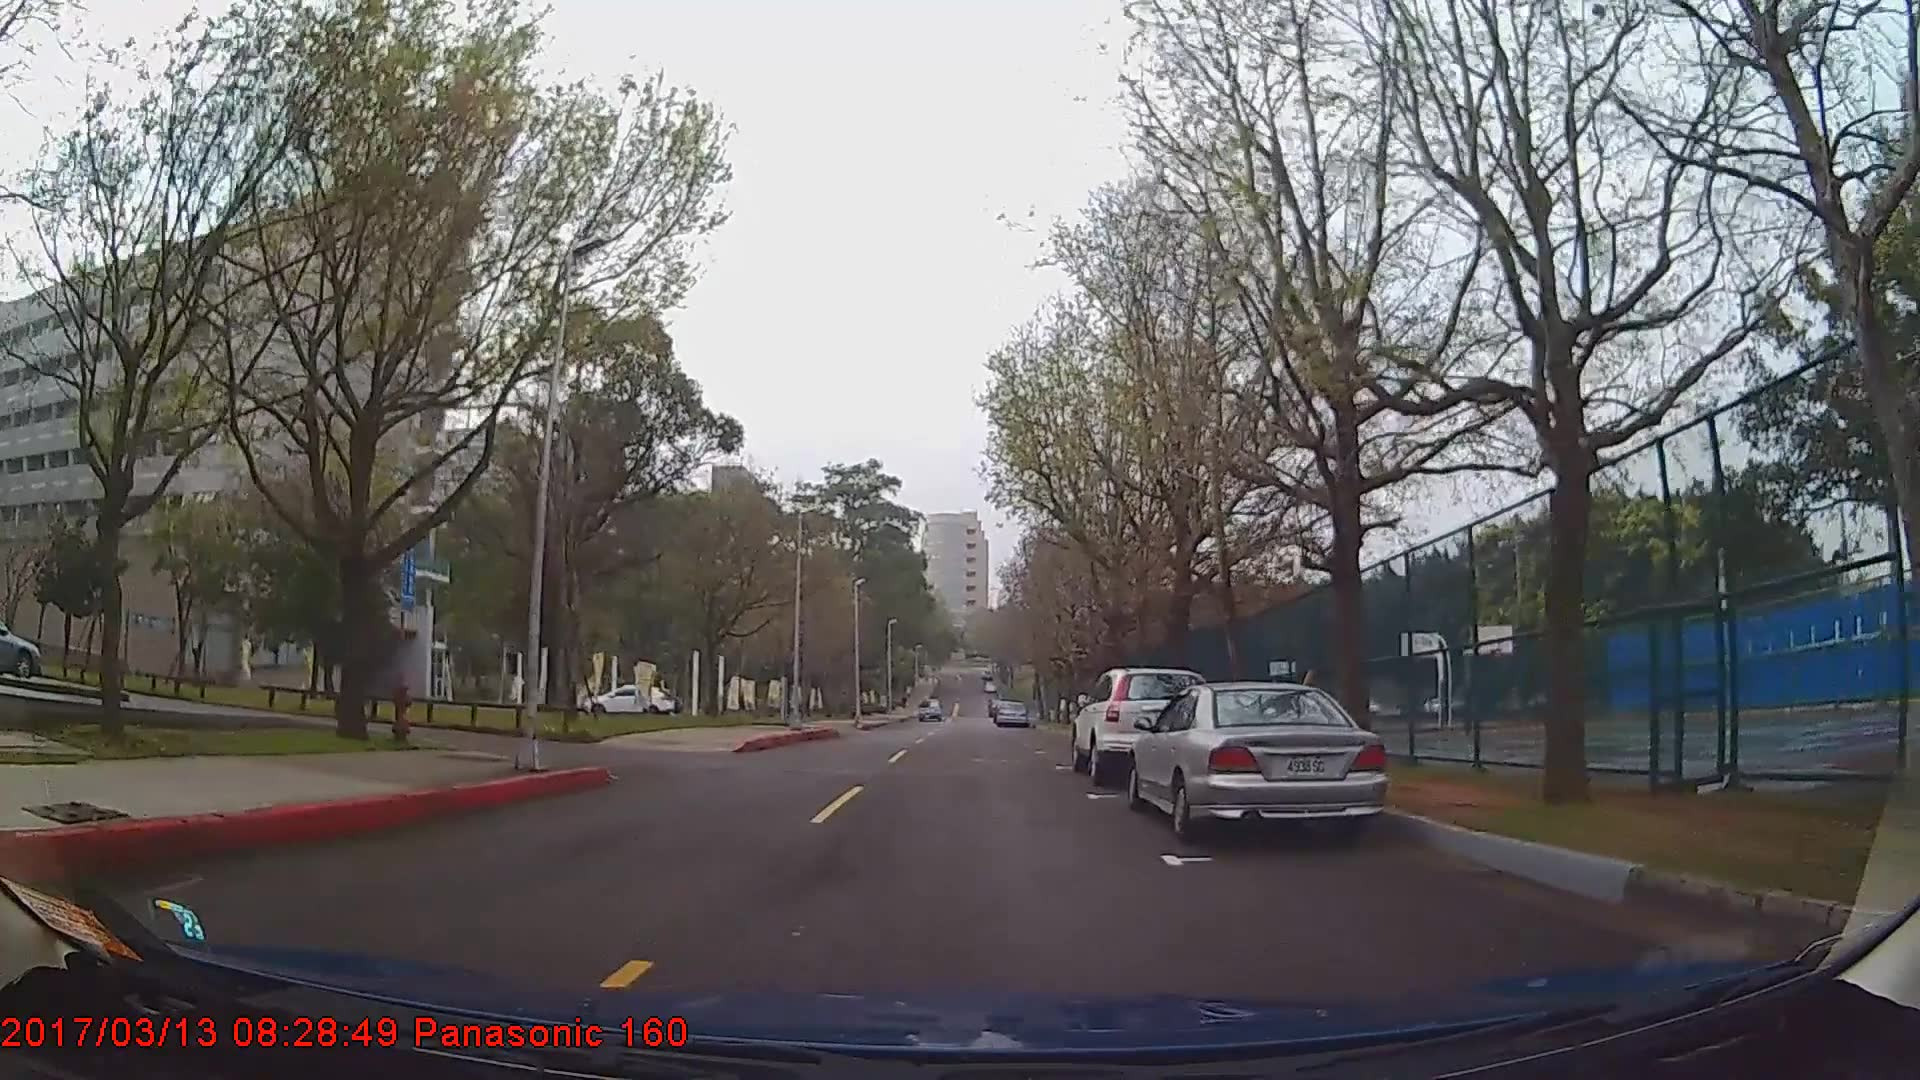vehicle: (1127, 680, 1386, 844), (1069, 667, 1211, 785), (582, 683, 676, 717), (0, 621, 42, 682), (992, 700, 1029, 728)
